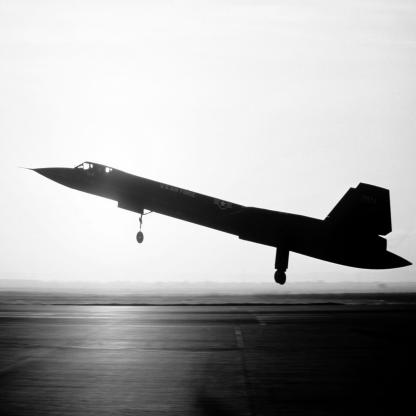SR71: (18, 162, 414, 286)
